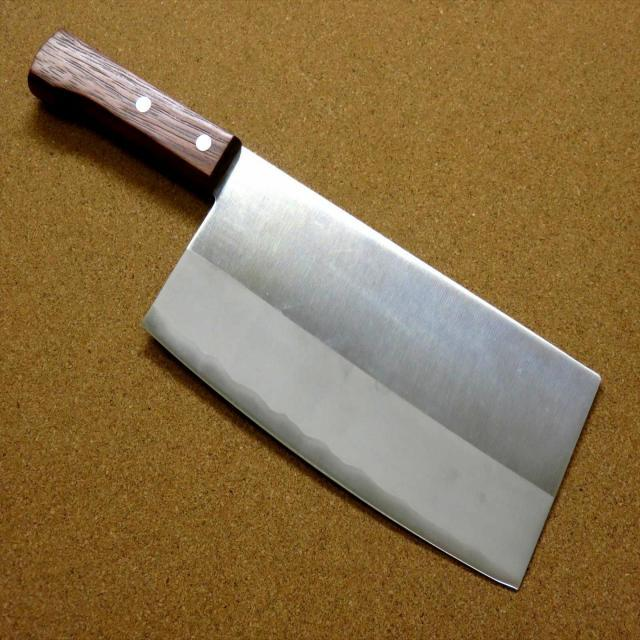cleaver: (33, 29, 601, 584)
